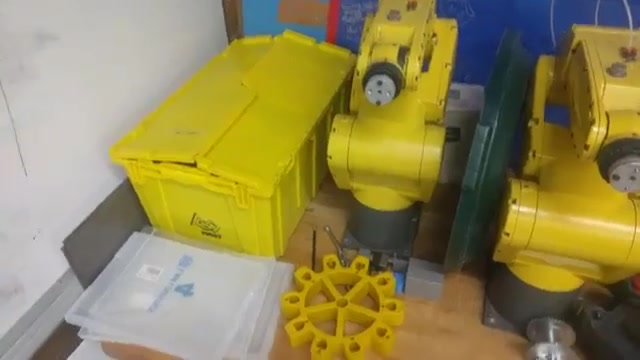gear: (276, 255, 404, 359)
